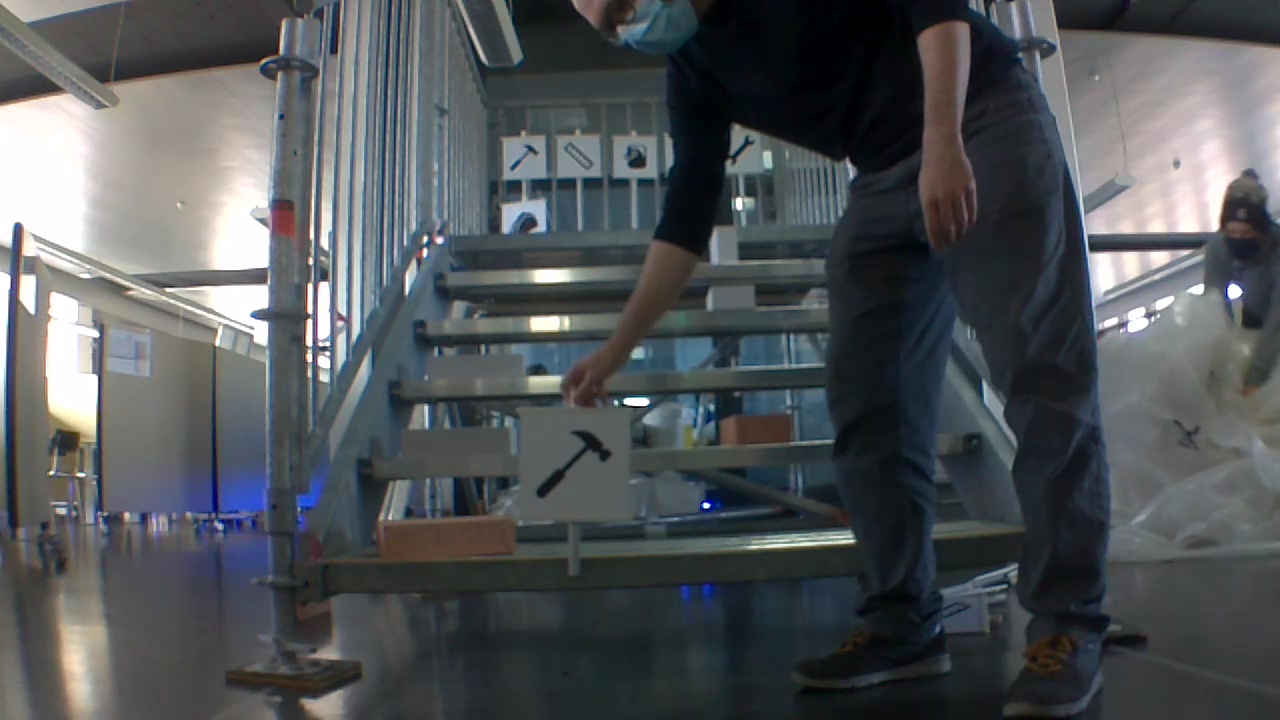brick: (381, 516, 514, 557), (402, 428, 514, 459), (427, 354, 526, 380), (721, 415, 793, 444), (709, 225, 738, 260), (708, 285, 752, 308)
bucket: (620, 140, 651, 173)
hammer: (528, 423, 619, 504), (504, 137, 538, 175)
ruler: (561, 140, 595, 170)
taco: (506, 209, 539, 234)
wrench: (726, 130, 757, 168)
